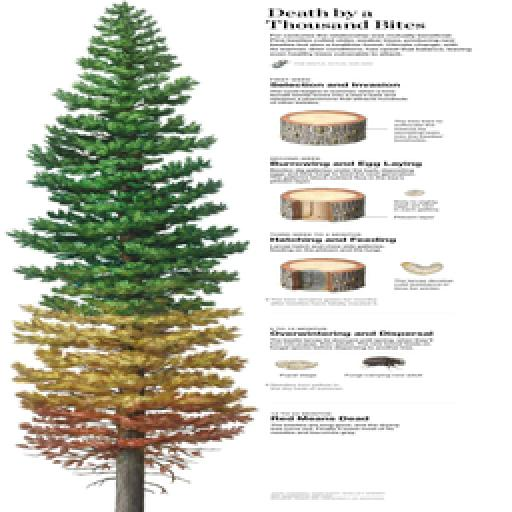trees: (6, 1, 257, 512)
